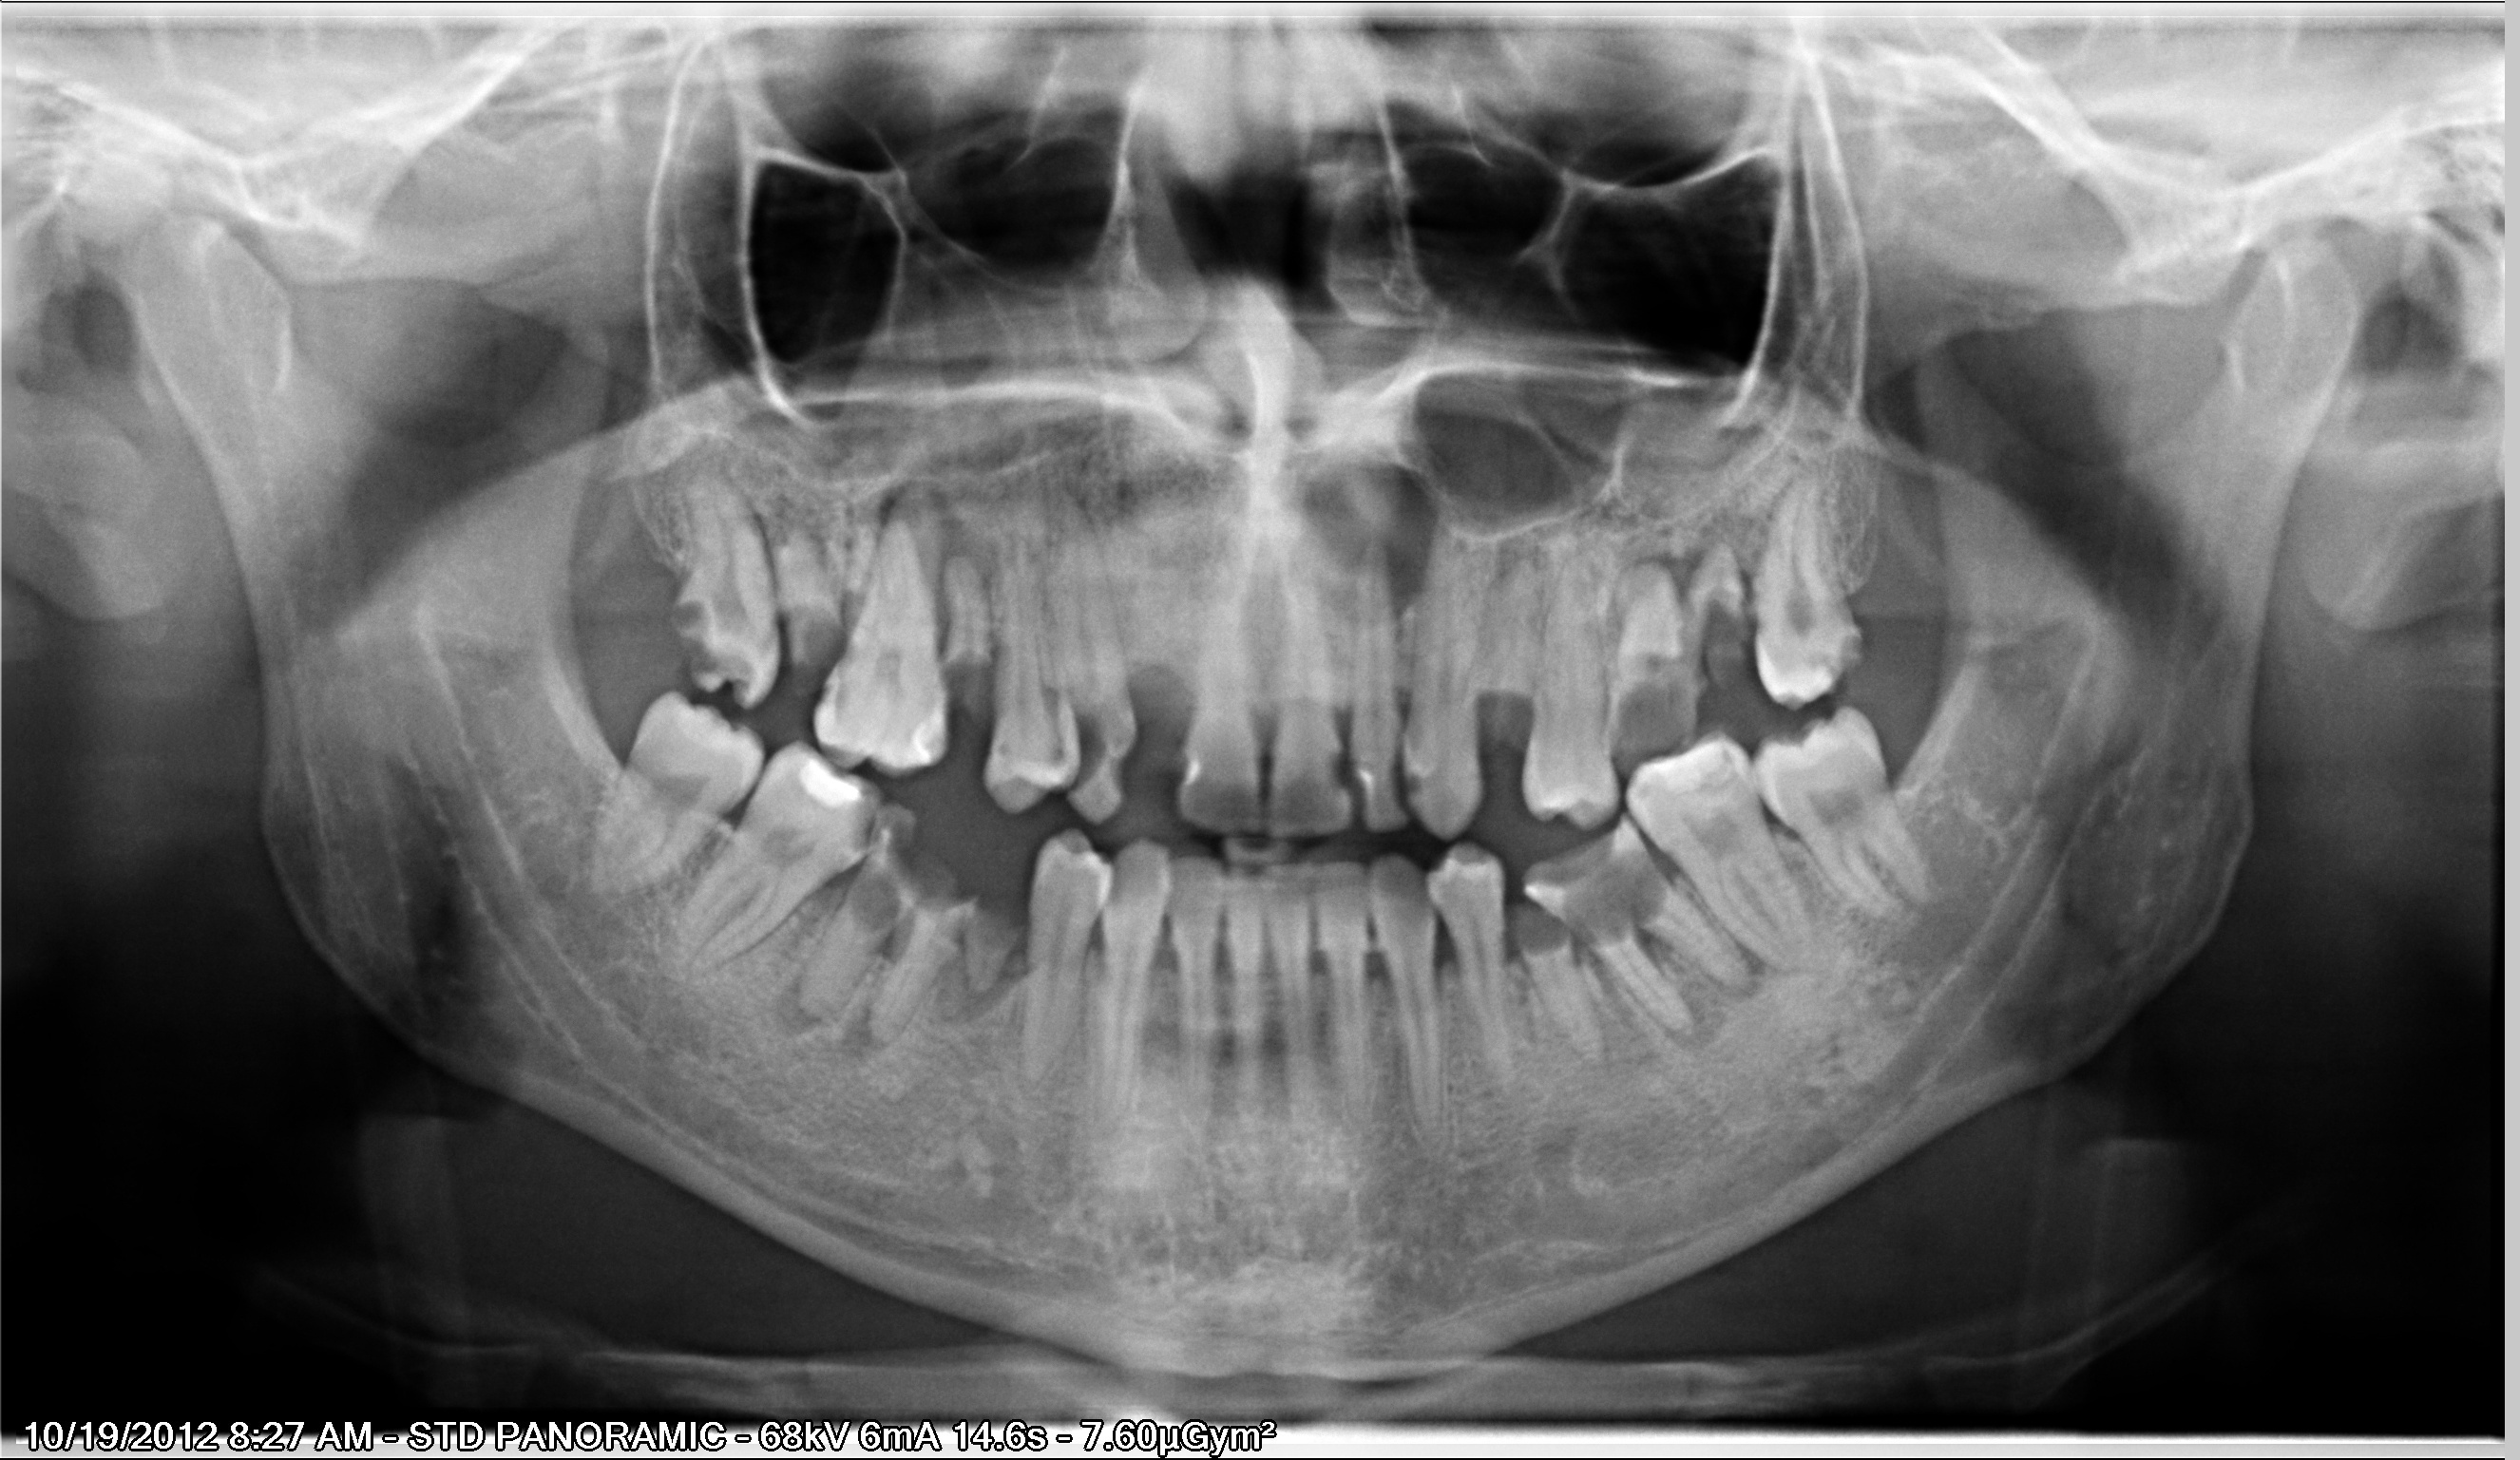API: (353, 455, 1190, 1460)
CAR: (294, 249, 1050, 952)
FUR: (796, 445, 2471, 1413)
ROT: (351, 189, 1196, 867)
